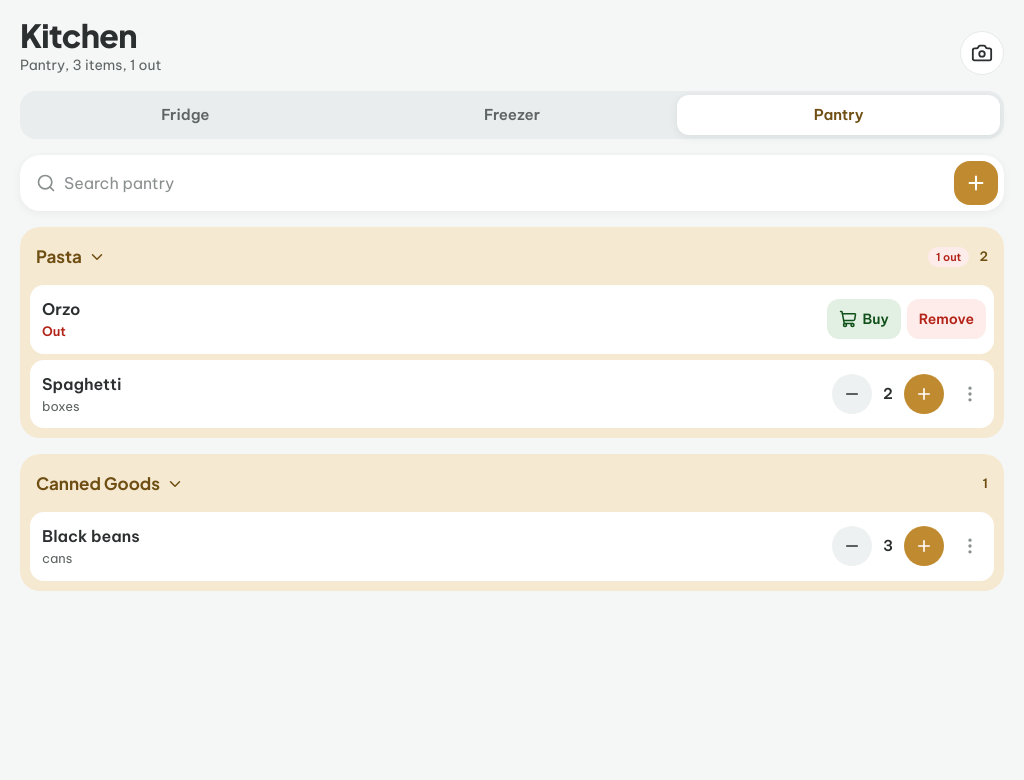
Test case: Kitchen › switching the segment swaps the tiles without leaving the page
The width and height of the screenshot is (1024, 780).
Expected: the text "Spaghetti" is shown, [42,374,122,394]
Click the tab "Fridge": point(185, 115) [24,95,347,135]
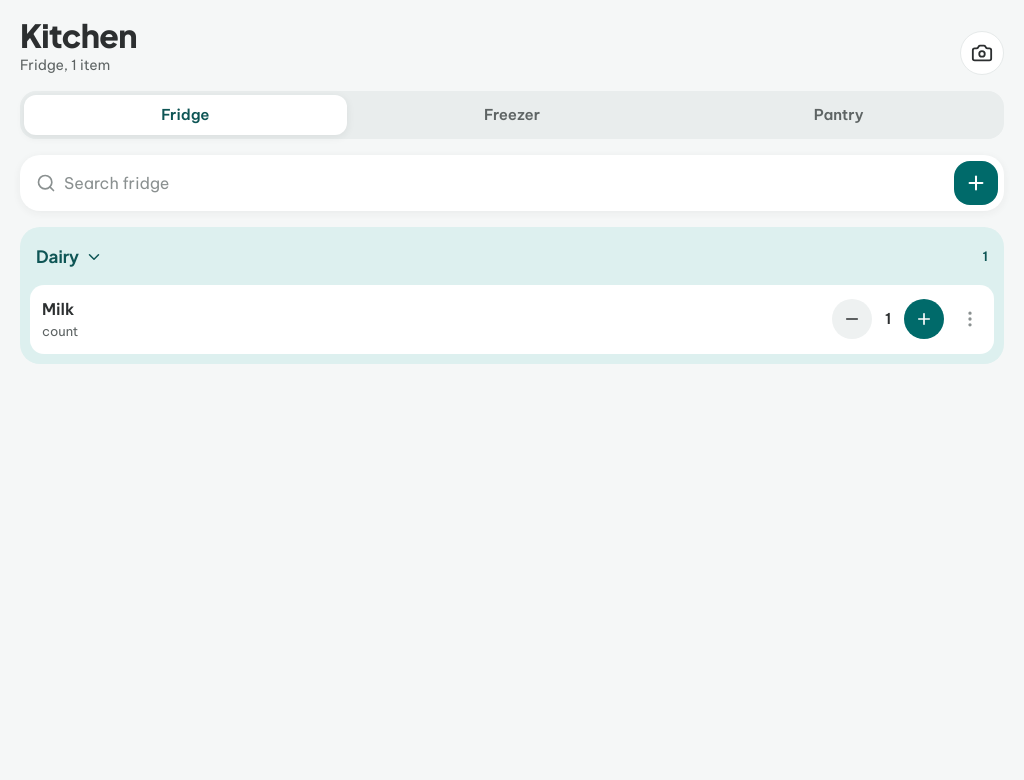
Result: the text "Milk" is shown at [42,299,74,319]
Result: the button "Spaghetti" is gone
